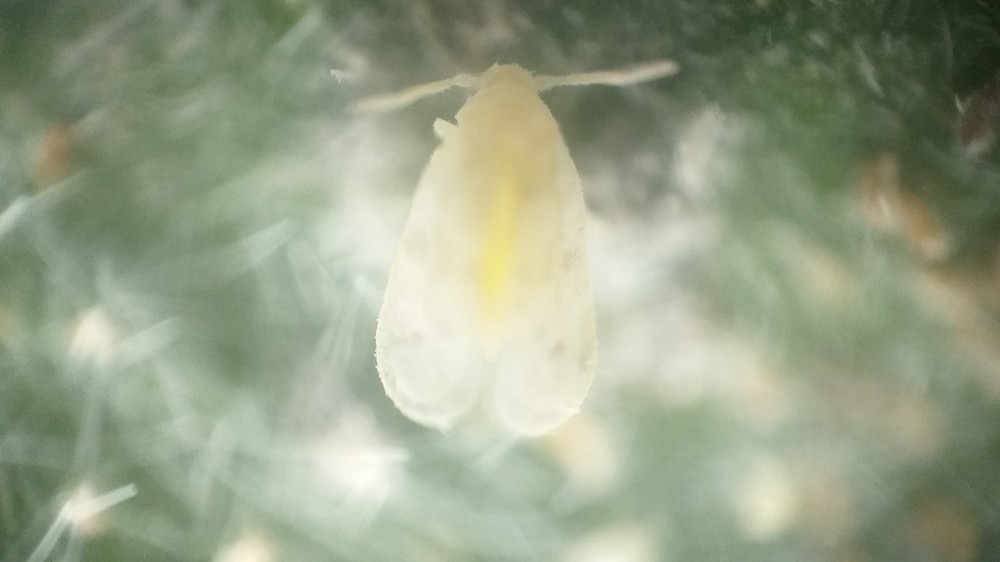Mosca Blanca: (334, 40, 686, 456)
